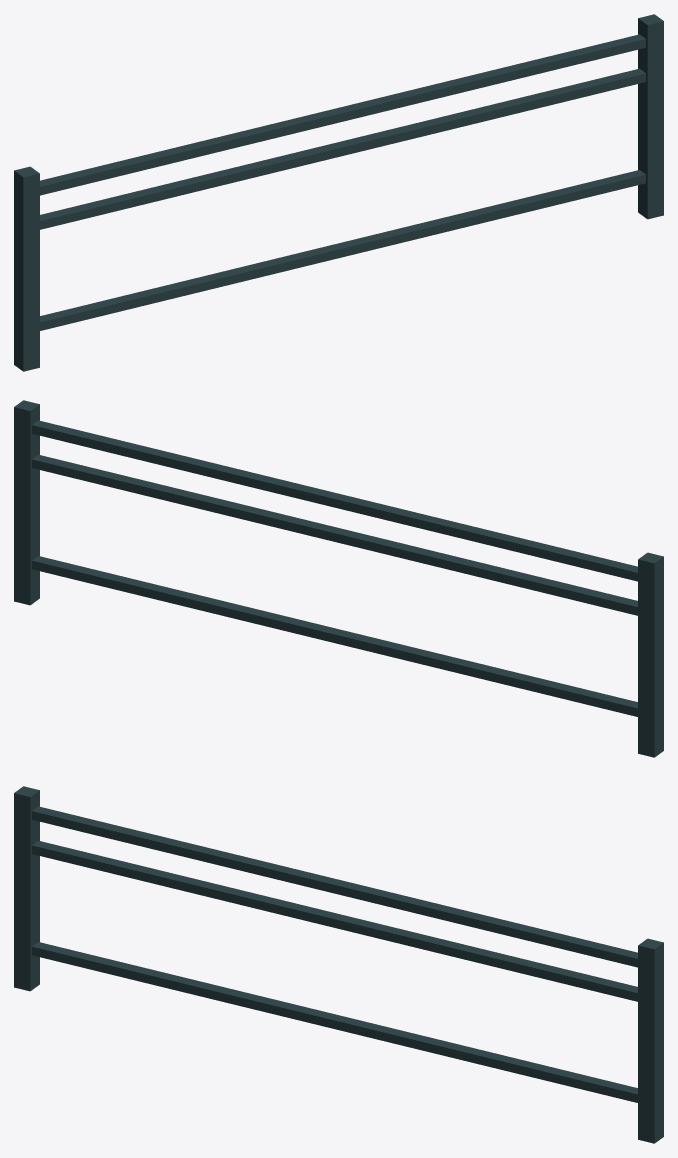
File: quay-guardrail-distance.glb
3 views of the same model, one above another, from view 1: azimuth 30°, elevation 25°; view 2: azimuth 150°, elevation 25°; view 3: azimuth 330°, elevation 25° (orthographic).
Parts seen in each view (by area): view 1: quay-guardrail-distance; view 2: quay-guardrail-distance; view 3: quay-guardrail-distance.
Part boxes in pixels (left/top/right/bottom): quay-guardrail-distance: left=14, top=14, right=663, bottom=371; quay-guardrail-distance: left=14, top=400, right=663, bottom=757; quay-guardrail-distance: left=14, top=786, right=663, bottom=1143.
Bounding box in the file's own units: 4.11 × 1.19 × 0.105.
